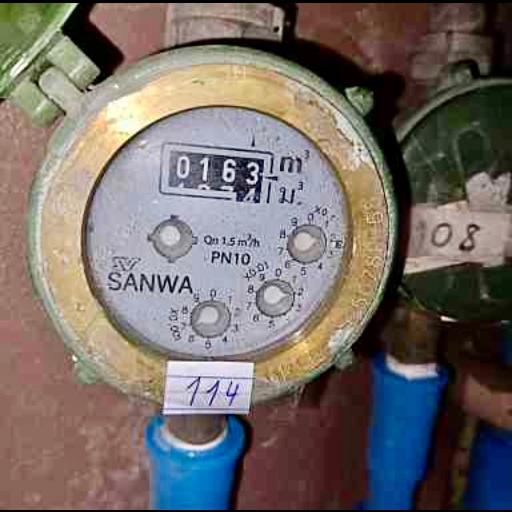0: (167, 150, 197, 189)
1: (193, 152, 219, 190)
3: (236, 156, 265, 203)
6: (216, 154, 240, 192)
border_water_meter_number: (157, 140, 276, 204)
